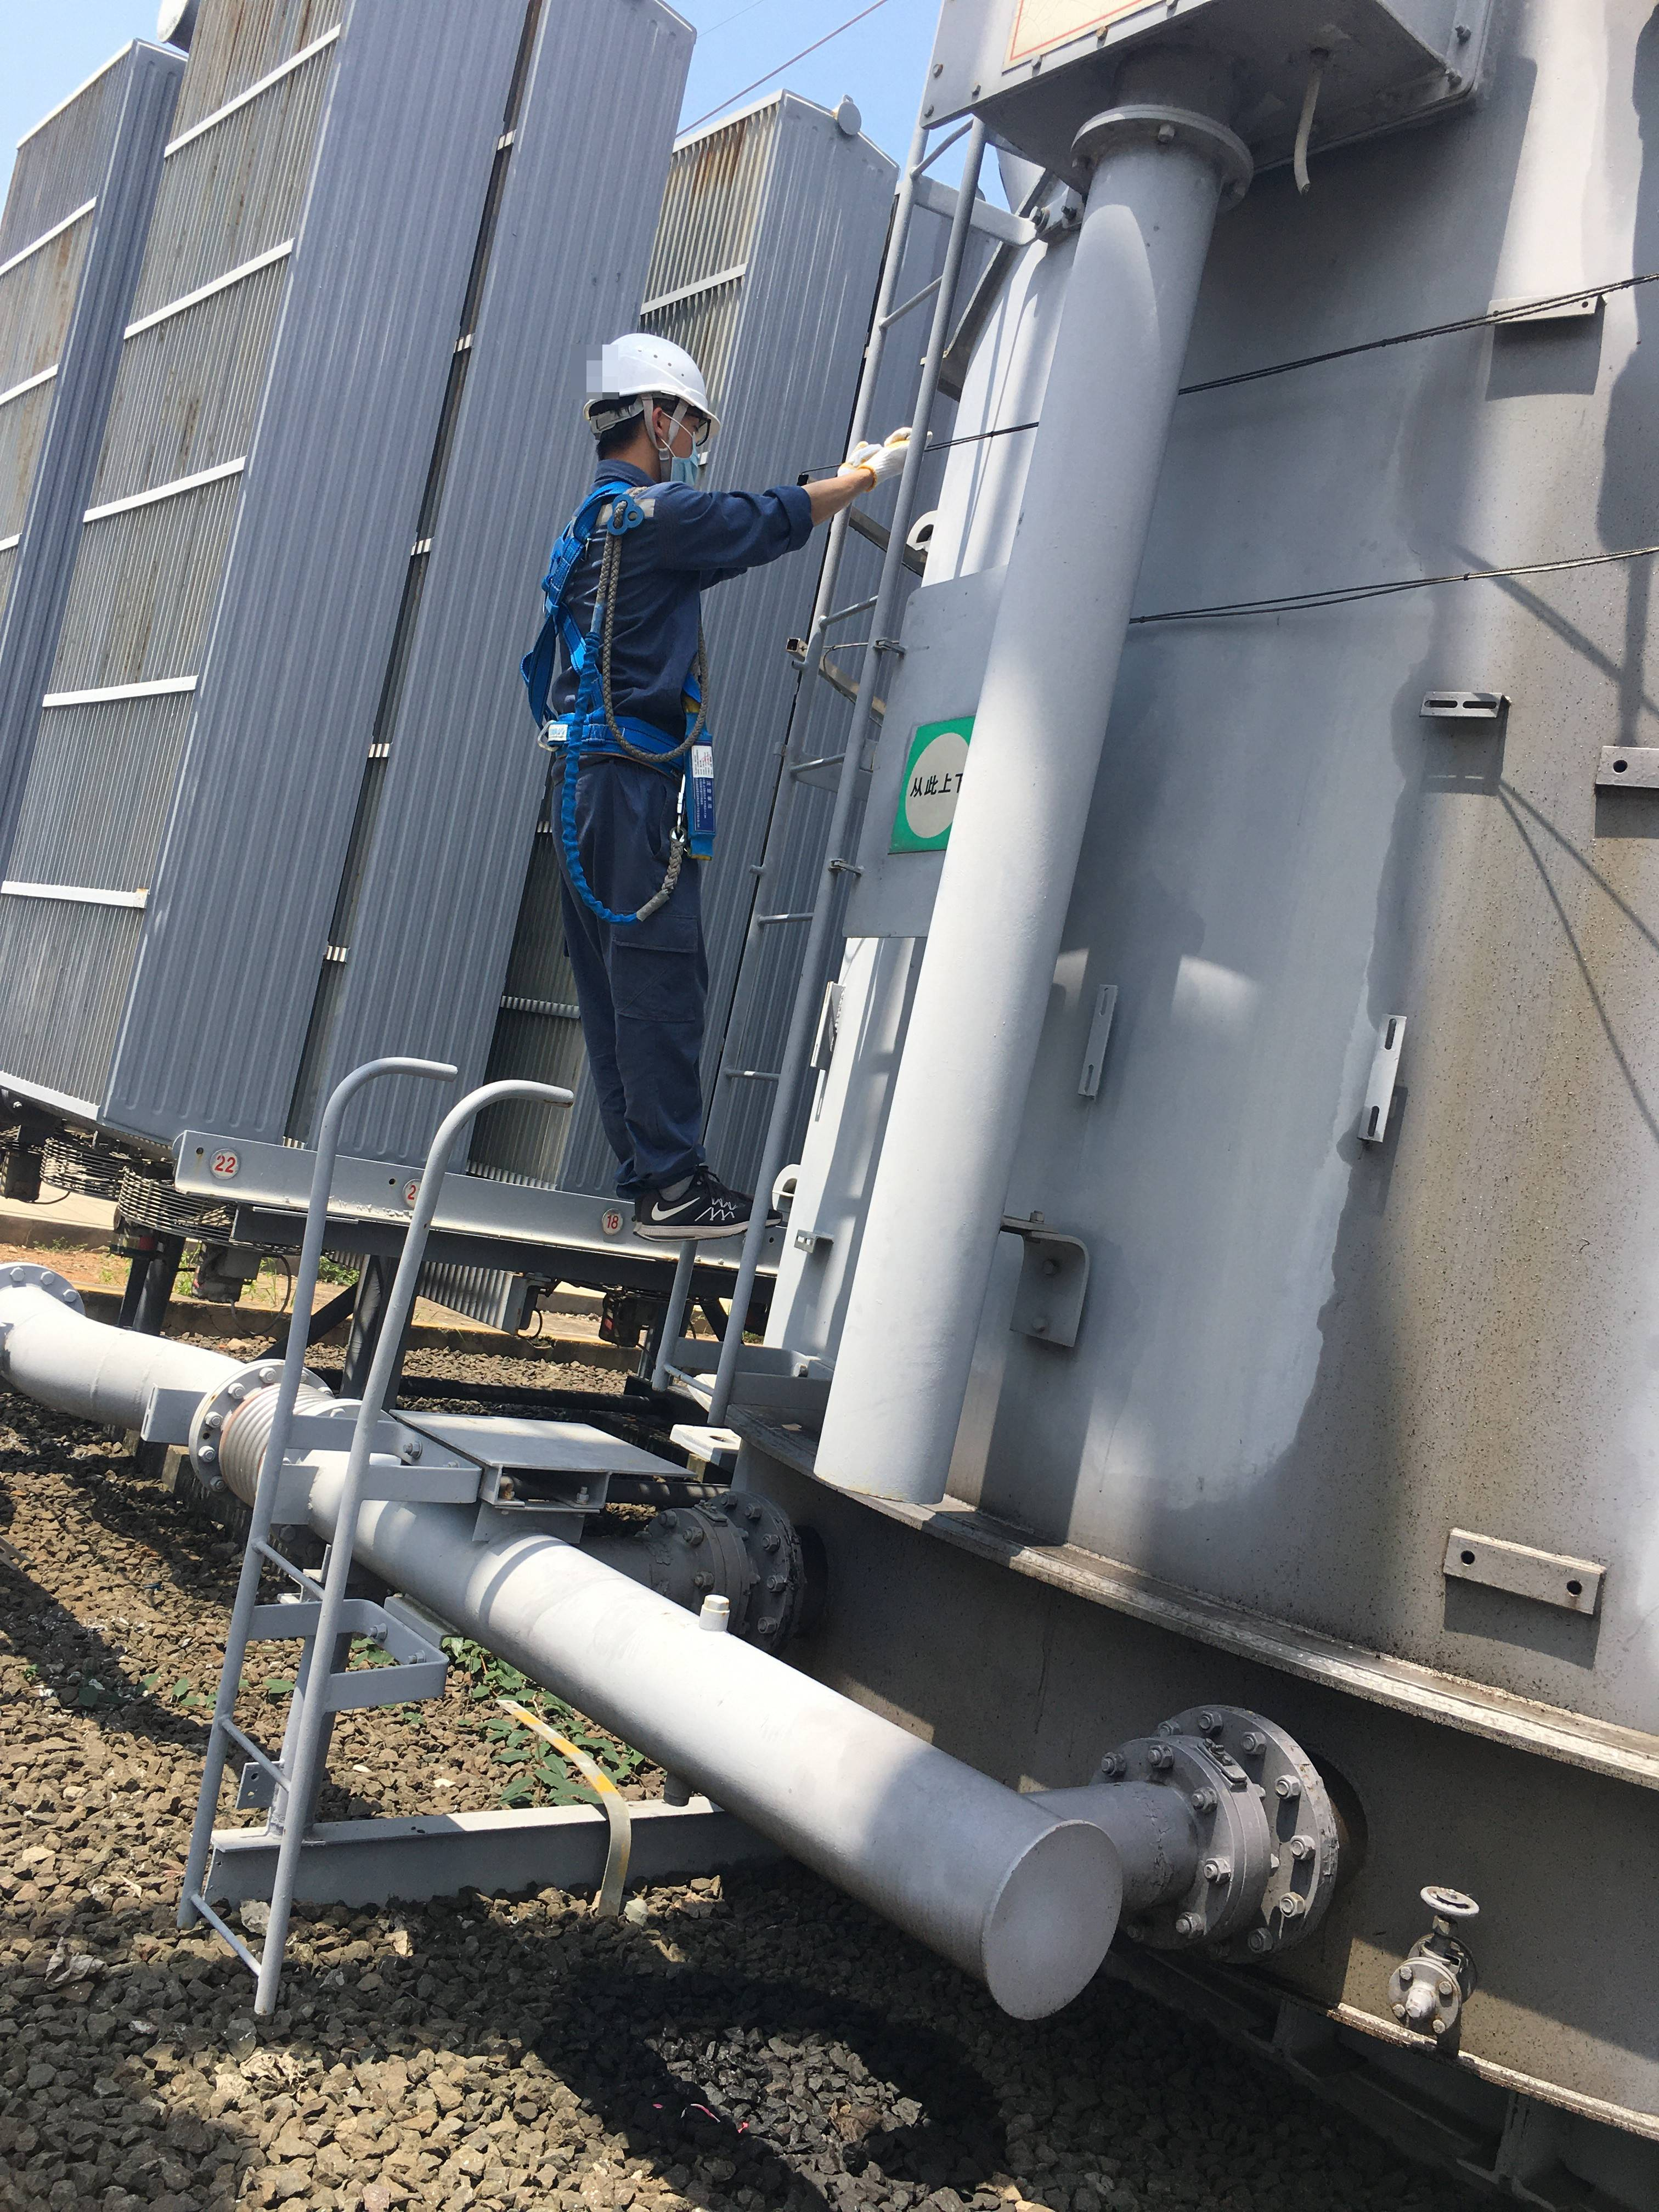downsuit: (552, 761, 735, 1146)
upsuit: (533, 496, 737, 752)
wrongtop: (791, 444, 903, 528)
